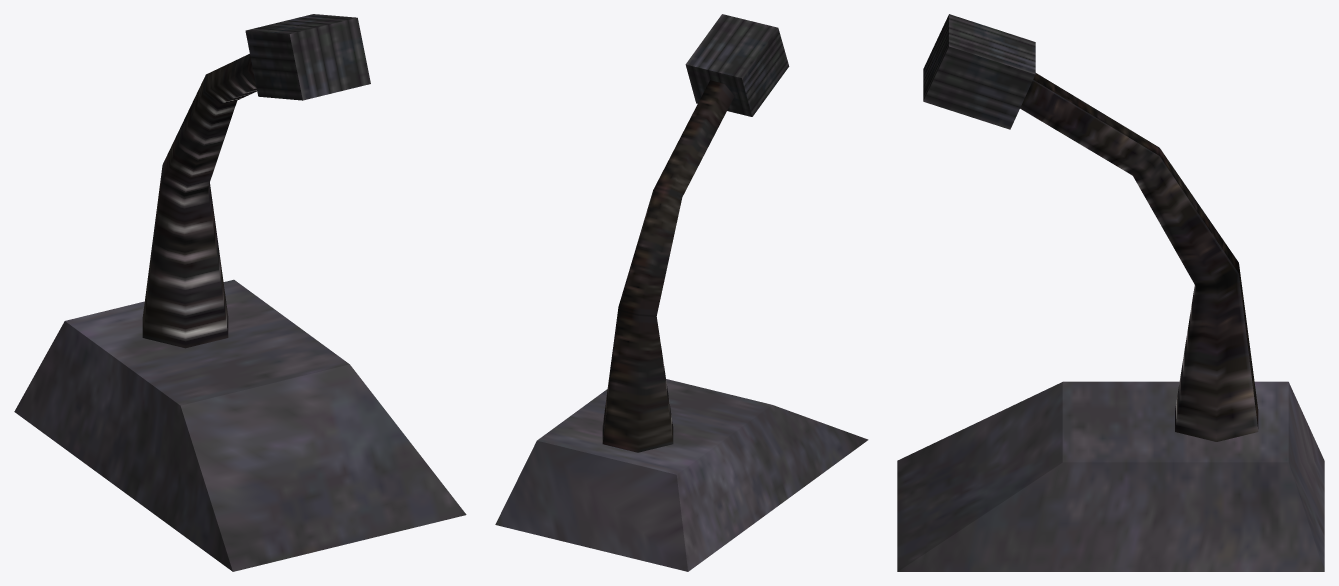
File: Radio04.glb
The picture shows the model from 3 angles, left to right: view 1: azimuth 30°, elevation 25°; view 2: azimuth 150°, elevation 25°; view 3: azimuth 270°, elevation 25°; orthographic projection. The views are drawn at different scales.
Parts seen in each view (by area): view 1: _Radio04; view 2: _Radio04; view 3: _Radio04.
Part boxes in pixels (x1,y1,x2,y2): _Radio04: (14,14,466,571); _Radio04: (495,14,868,571); _Radio04: (897,14,1324,571).
Size of the model in its own units: 0.1818 by 0.3703 by 0.2948.
1 material, 1 textured.
